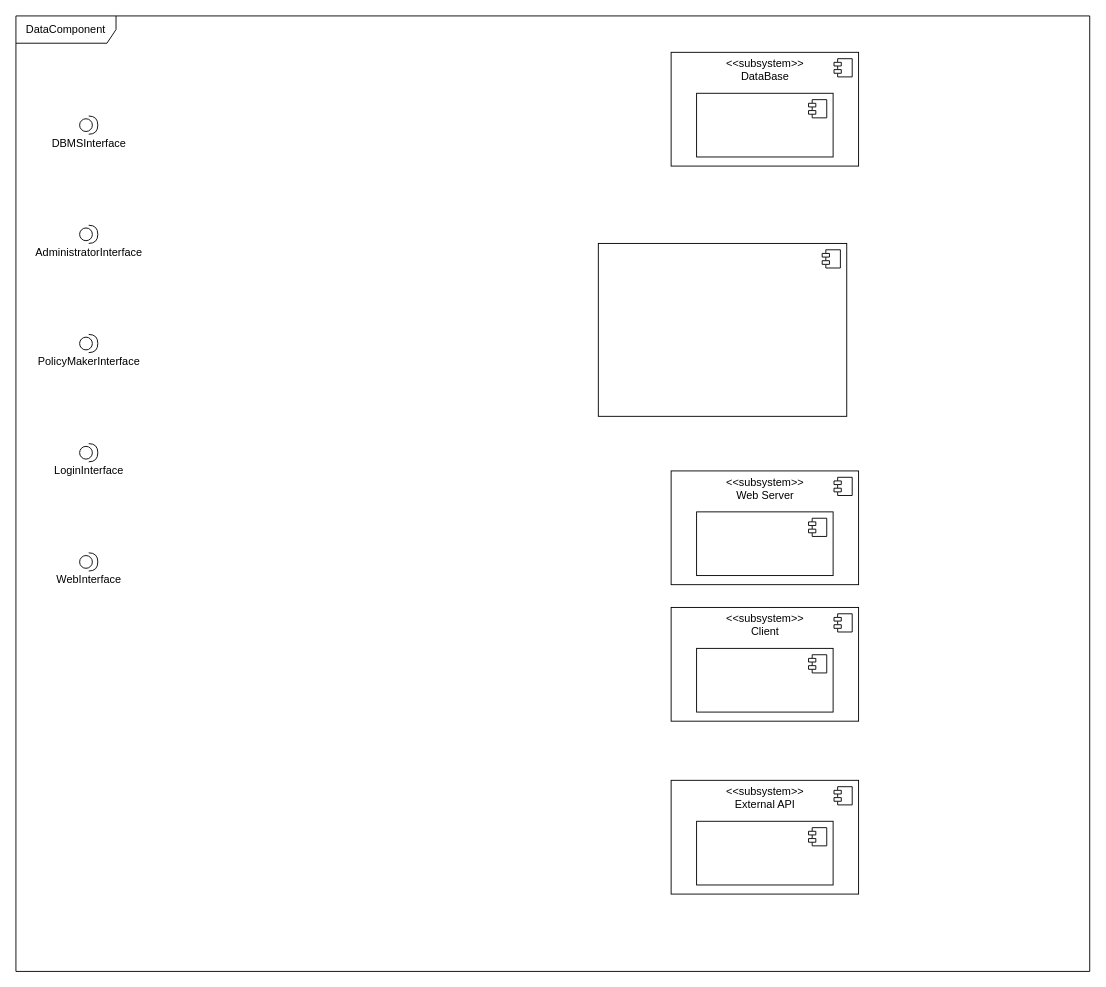
Some shapes in this 1106 by 987 pixel diagram are drawn without their labels. Each missing label, with the centre of its shape:
<<subsystem>> Application Server: the point at 722,329
DBMS: the point at 764,124
IdP APIs: the point at 764,852
Web Browser: the point at 764,679
Web Server Module: the point at 764,543
